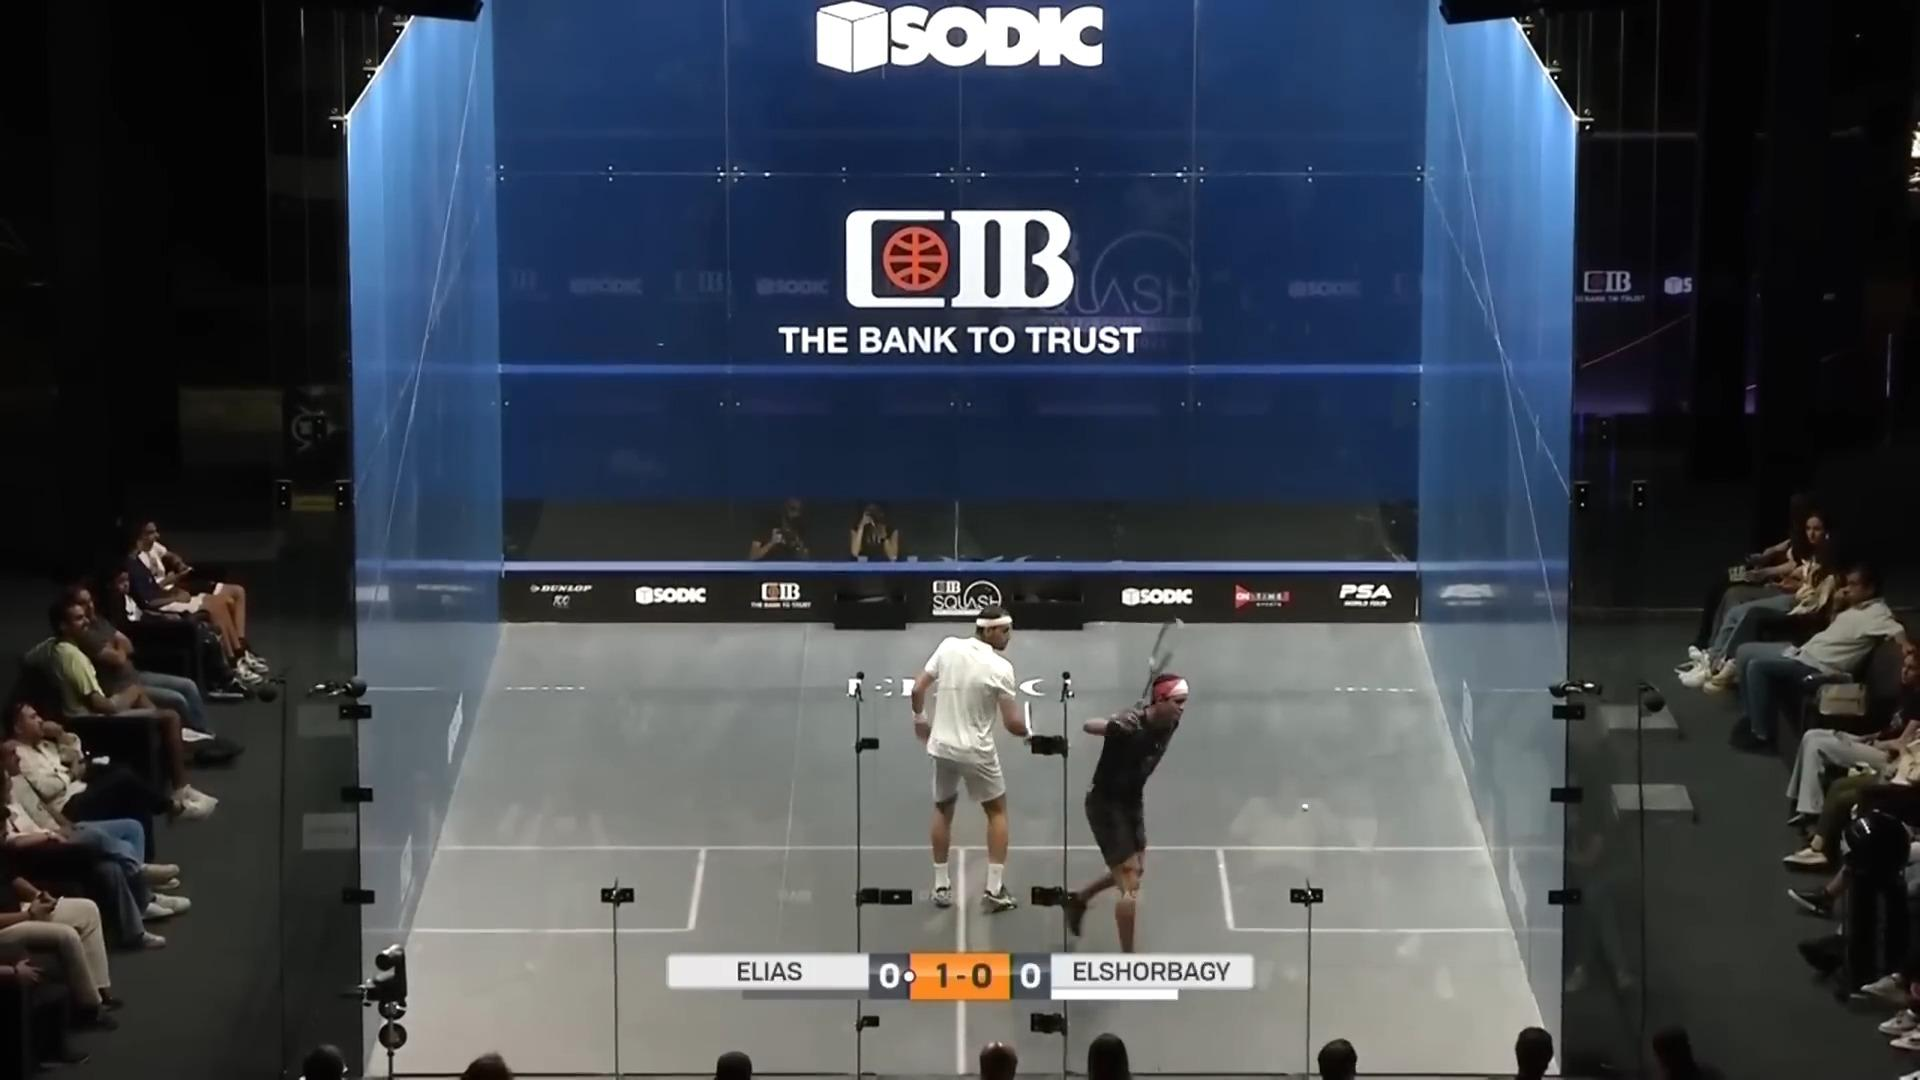Squash-Ball: (1291, 790, 1321, 827)
